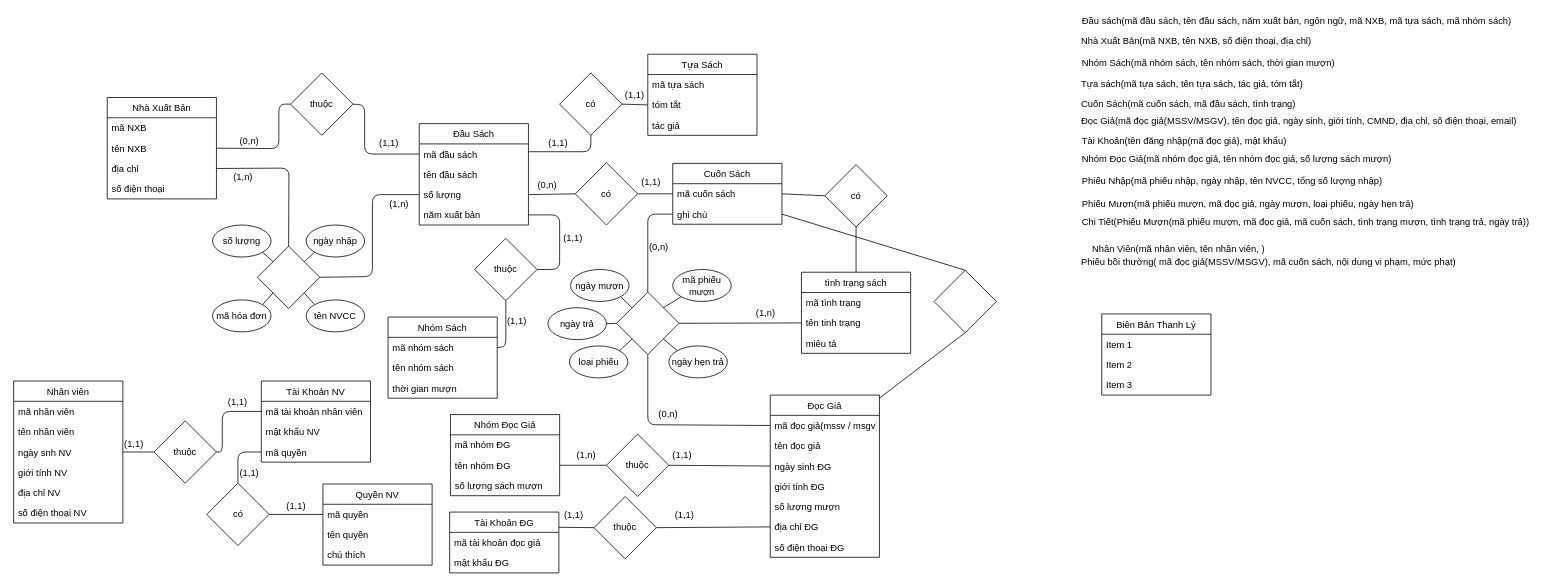
Some shapes in this 1555 by 588 pixel diagram are drawn without their labels. The shapes that lost their labels are listed below. From the top down, each one's centre as x and y in pixels, then its label:
the point at 288,276: cung câp
the point at 964,301: vi phạm
the point at 647,323: mượn trả
